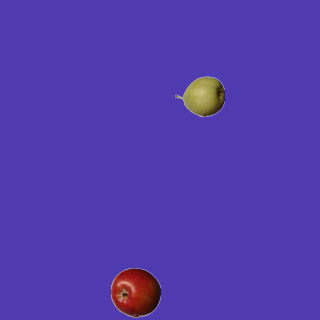Apple Braeburn: (110, 267, 160, 317)
Pear: (174, 71, 224, 121)
